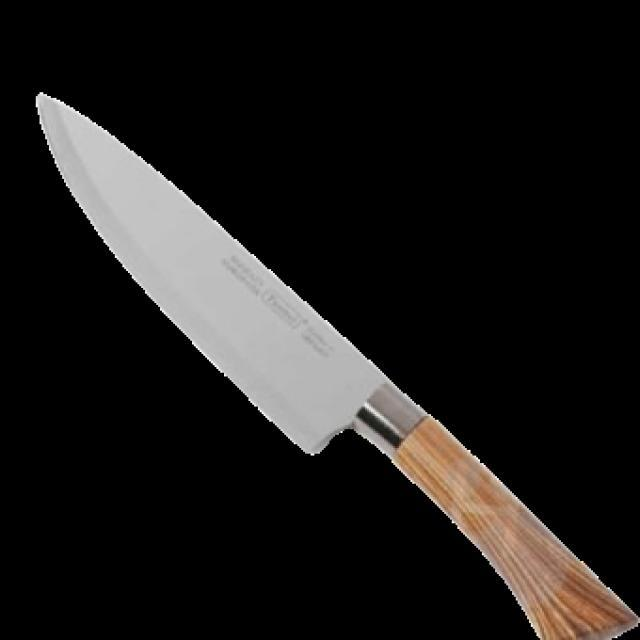knife: (31, 78, 638, 638)
